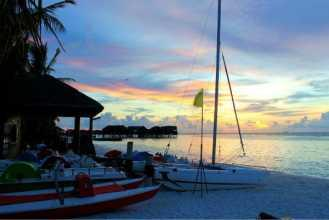fanchuan: (162, 1, 271, 191)
